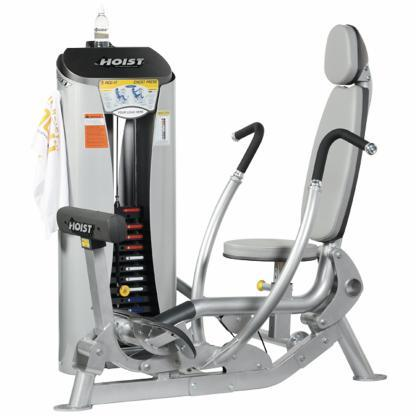Chest Press machine: (45, 19, 390, 412)
